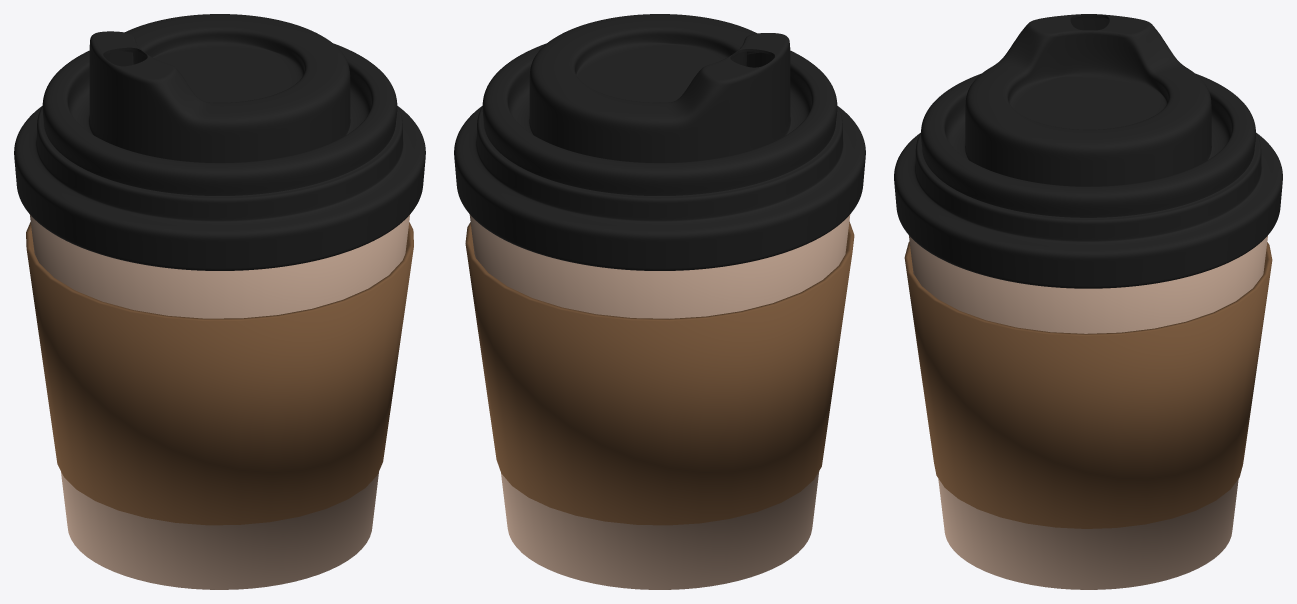
File: cup_of_coffee.glb
3 views of the same model, side by side, from view 1: azimuth 30°, elevation 25°; view 2: azimuth 150°, elevation 25°; view 3: azimuth 270°, elevation 25° (orthographic). The views are drawn at different scales.
Visible parts, largest first — view 1: Object_3, Object_2, Object_5; view 2: Object_3, Object_2, Object_5; view 3: Object_3, Object_2, Object_5.
Boxes of the visible parts, left/top/right/bottom form: Object_3: left=14, top=14, right=425, bottom=270; Object_2: left=26, top=222, right=413, bottom=525; Object_5: left=30, top=215, right=409, bottom=589; Object_3: left=454, top=14, right=865, bottom=270; Object_2: left=465, top=221, right=854, bottom=525; Object_5: left=469, top=214, right=850, bottom=589; Object_3: left=894, top=14, right=1282, bottom=288; Object_2: left=904, top=241, right=1272, bottom=528; Object_5: left=909, top=235, right=1267, bottom=589.
Size of the model in its own units: 2.57 by 3.38 by 2.57.
